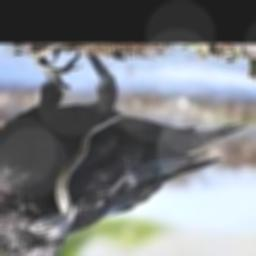Crow: (0, 52, 250, 256)
